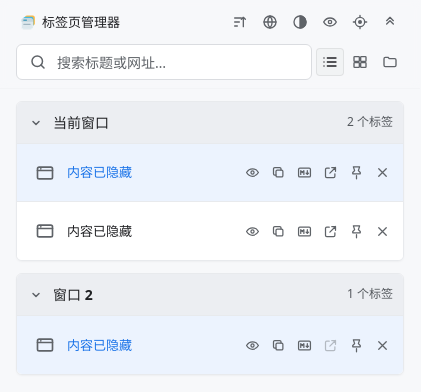
it: App integration › supports global and per-tab privacy overrides with global actions clearing overrides
Expected: the number of list items with class "tab-row" is 3, [17,144,403,202]; [17,202,403,260]; [17,316,403,374]
What coordinates should you click on to do the following:
click the 1st button named "显示此标签信息"
I would click on:
 (252, 172)
Its box is [239,160,265,186].
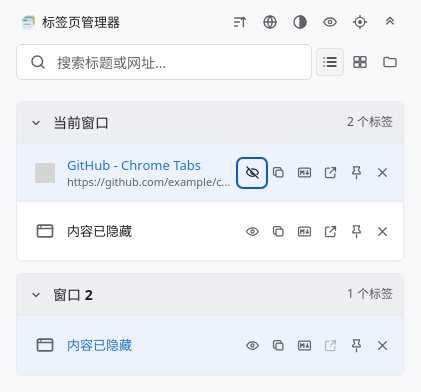
Expected: the text "内容已隐藏" is shown 2 times, [67,222,132,240]; [67,336,132,354]
Expected: the text "GitHub - Chrome Tabs" is shown, [67,156,201,174]
What coordinates should you click on to do the following:
click the button named "显示全部标签信息"
I would click on:
 (330, 22)
Its box is [316,8,344,36].
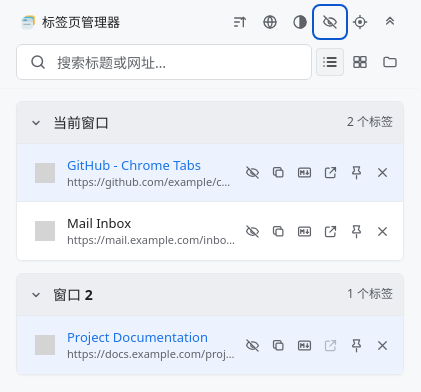
Expected: the text "GitHub - Chrome Tabs" is shown, [67,156,201,174]
Expected: the text "Mail Inbox" is shown, [67,214,131,232]
Expected: the text "Project Documentation" is shown, [67,328,208,346]
What coordinates should you click on to do the following:
click the 1st button named "隐藏此标签信息"
I would click on:
 (252, 172)
Its box is [239,160,265,186].
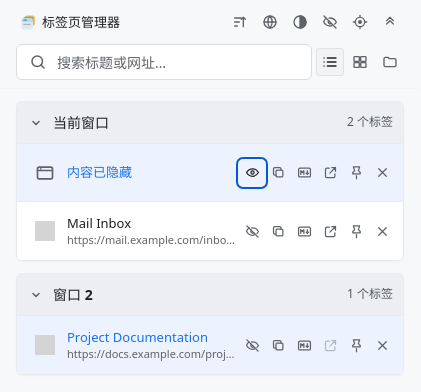
Expected: the text "内容已隐藏" is shown once, [67,163,132,181]
Expected: the button "GitHub - Chrome Tabs" is gone
What coordinates should you click on to do the following:
click the button named "隐藏全部标签信息"
I would click on:
 (330, 22)
Its box is [316,8,344,36].
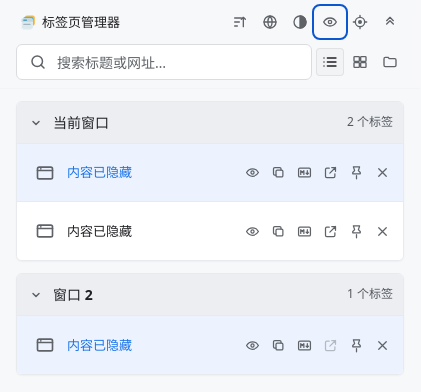
Expected: the text "内容已隐藏" is shown 3 times, [67,163,132,181]; [67,222,132,240]; [67,336,132,354]
What coordinates should you click on to do the following:
click the button named "显示全部标签信息"
I would click on:
 (330, 22)
Its box is [316,8,344,36].
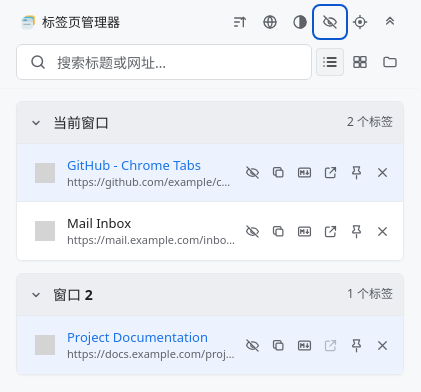
Expected: the button "内容已隐藏" is gone
Expected: the text "GitHub - Chrome Tabs" is shown, [67,156,201,174]
